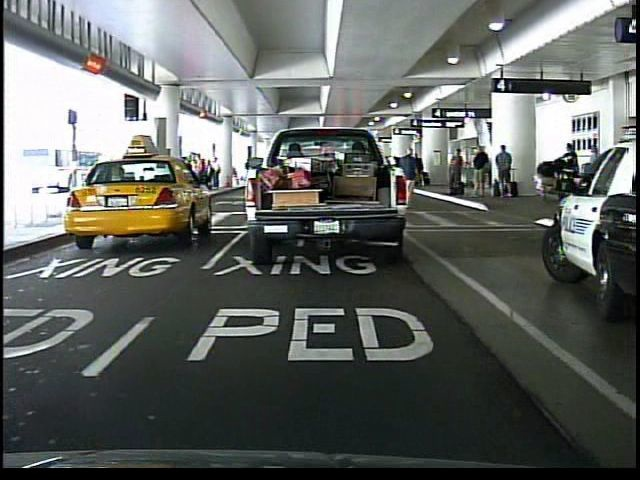person: (345, 140, 378, 218), (397, 144, 423, 213), (560, 138, 582, 200)
